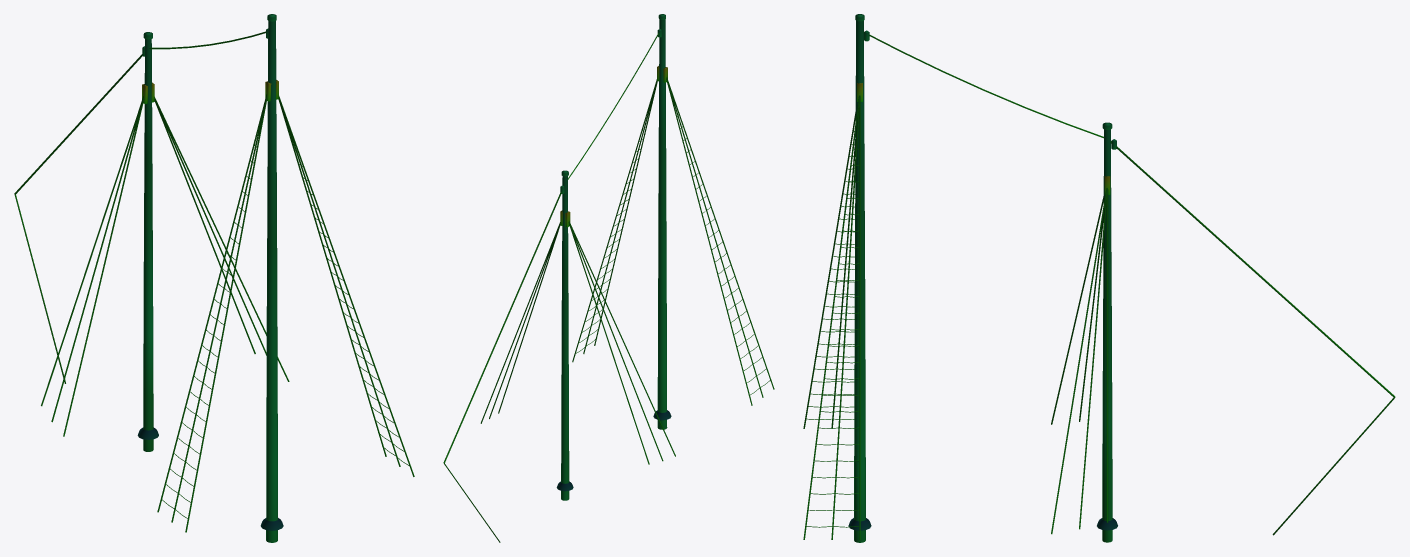
Rendered from terrace_rig.glb.
3 views of the same model, side by side, from view 1: azimuth 30°, elevation 25°; view 2: azimuth 150°, elevation 25°; view 3: azimuth 270°, elevation 25° (orthographic). The views are drawn at different scales.
Parts seen in each view (by area): view 1: terrace_rig; view 2: terrace_rig; view 3: terrace_rig.
Boxes of the visible parts, bbox=[...] form: terrace_rig: bbox=[14, 14, 414, 542]; terrace_rig: bbox=[443, 14, 774, 542]; terrace_rig: bbox=[803, 14, 1395, 542].
Size of what is drawn, in the model's own units: 6.64 by 14.54 by 14.83.
